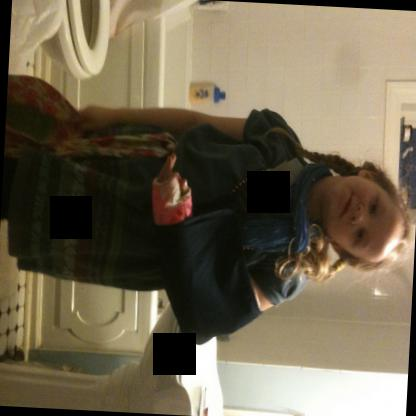handbag: (3, 73, 79, 156)
